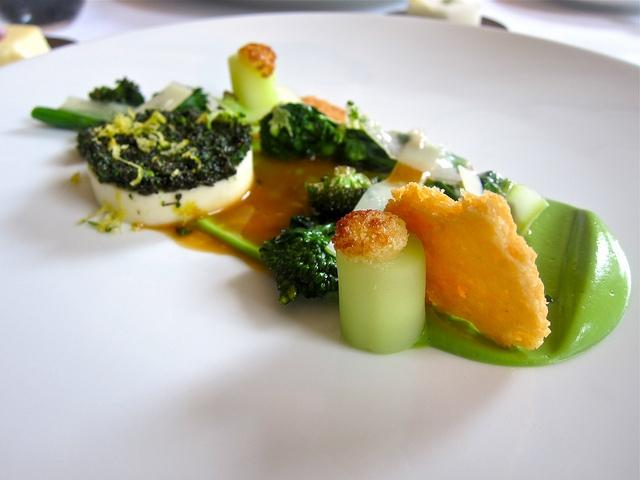broccoli: (259, 100, 397, 185), (260, 228, 338, 305), (304, 166, 370, 226), (89, 78, 144, 107)
